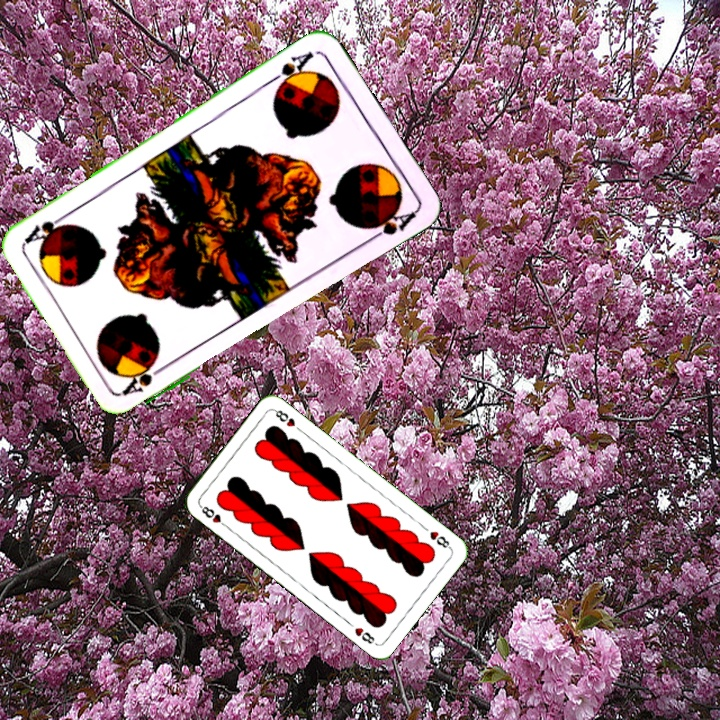H8: (196, 501, 231, 530), (426, 527, 454, 551)
SA: (265, 46, 317, 94), (118, 359, 172, 398)
